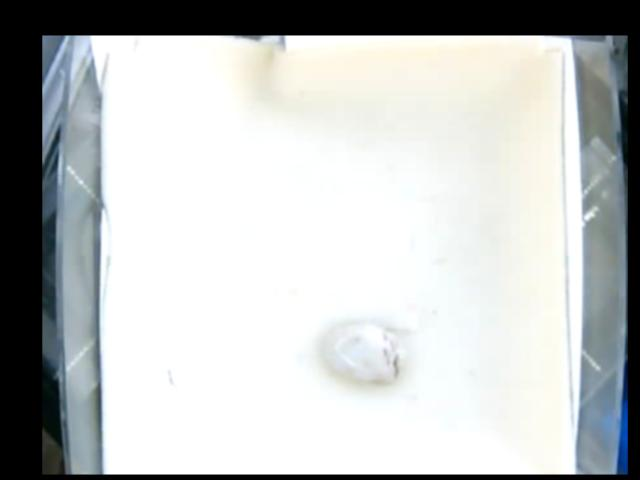Pebble: (319, 319, 404, 386)
